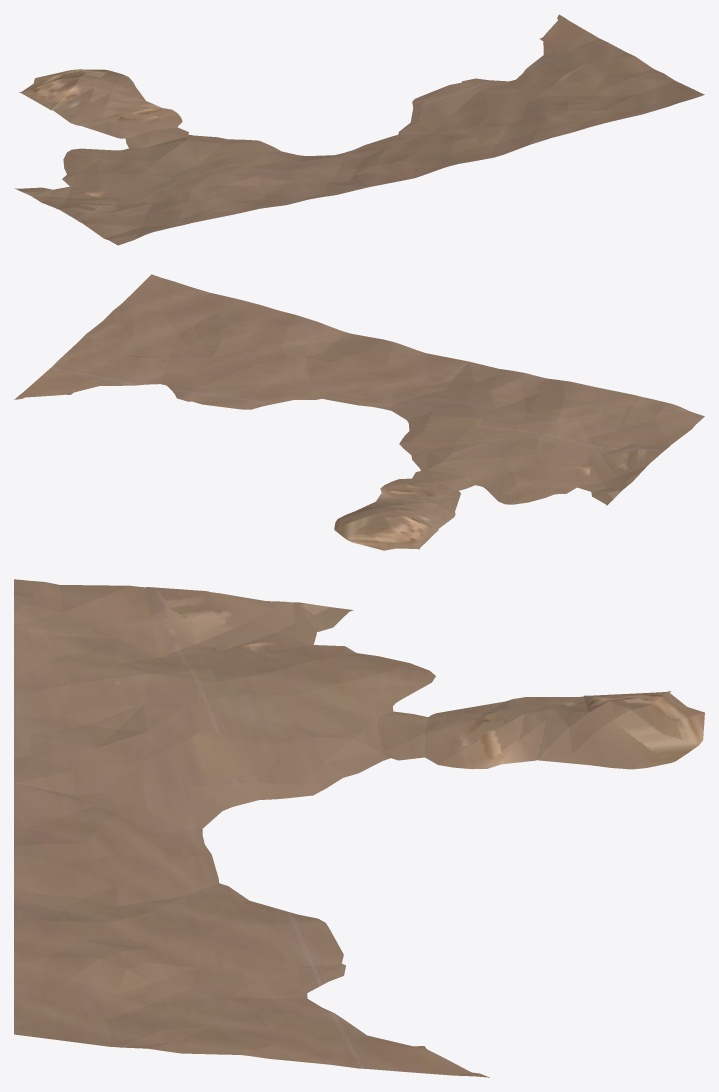
3 views of the same model, one above another, from view 1: azimuth 30°, elevation 25°; view 2: azimuth 150°, elevation 25°; view 3: azimuth 270°, elevation 25° (orthographic). The views are drawn at different scales.
Bounding box in the file's own units: 1.04 × 0.0451 × 0.6523.
1 material, 1 textured.
